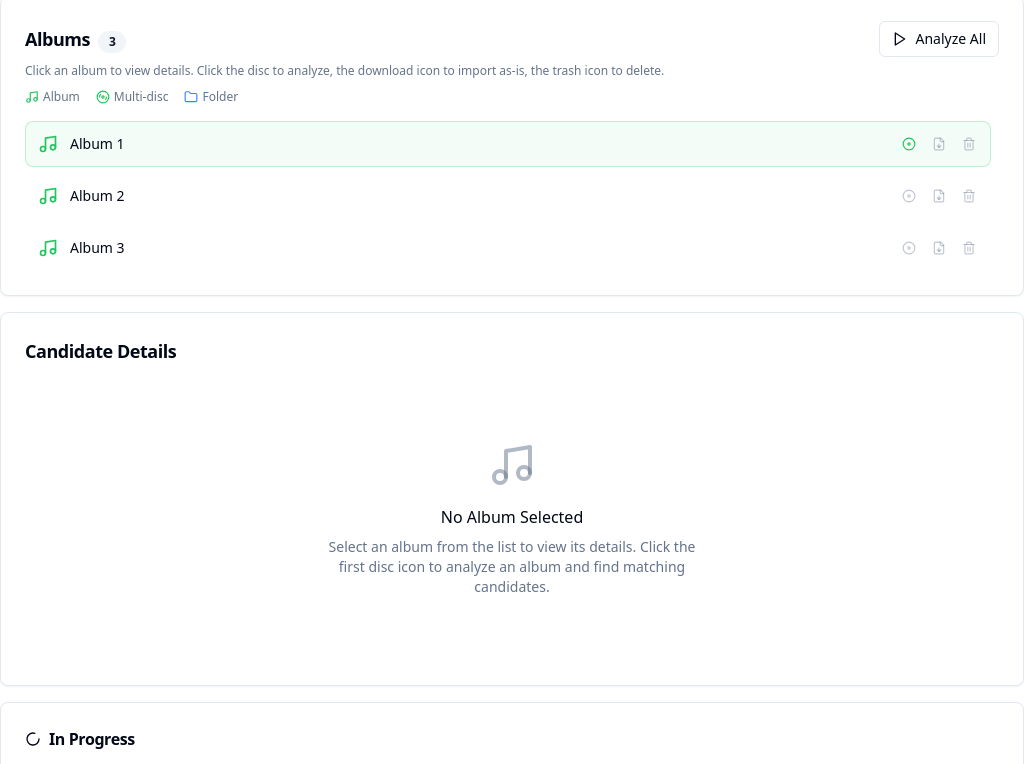
Test: BeetsImportPanel › Album Deletion › should delete the incoming album from the duplicate dialog
Expected: the text "Album 1" is shown, [70,134,125,153]
# Select Album 1 → auto-analysis loads candidates and the Import button.
Click the button "Album 1" at (97, 144), box [25,121,991,167]
(page scrolled)
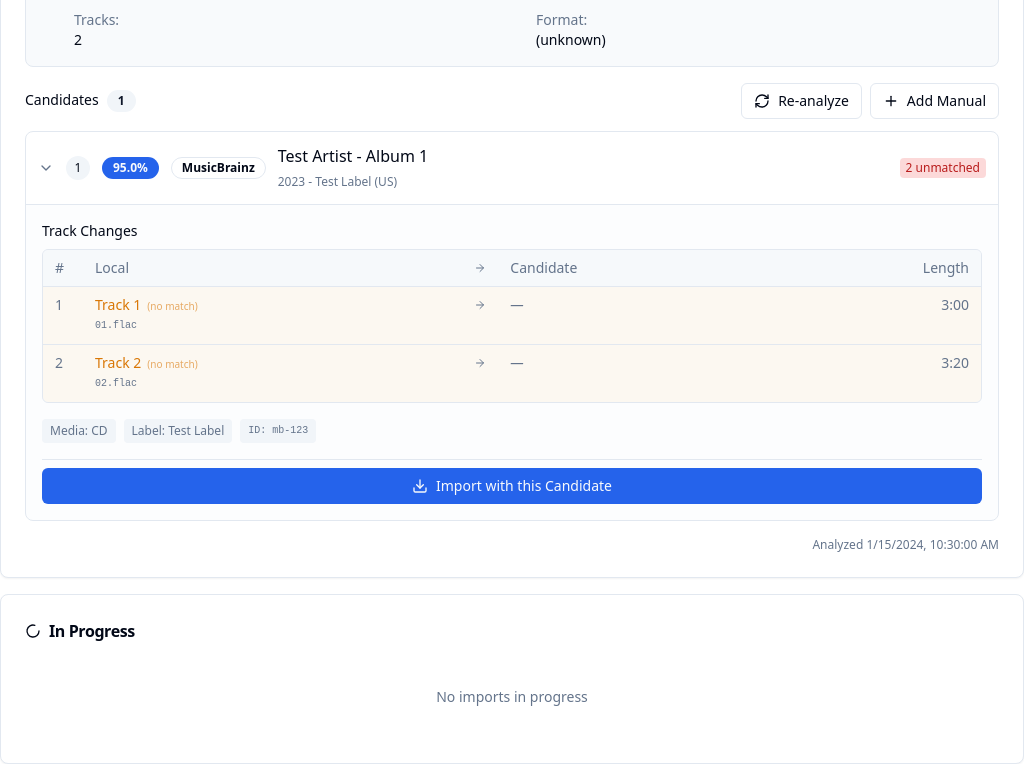
Click the button with test id "import-button" at (512, 486), box [42,468,982,504]
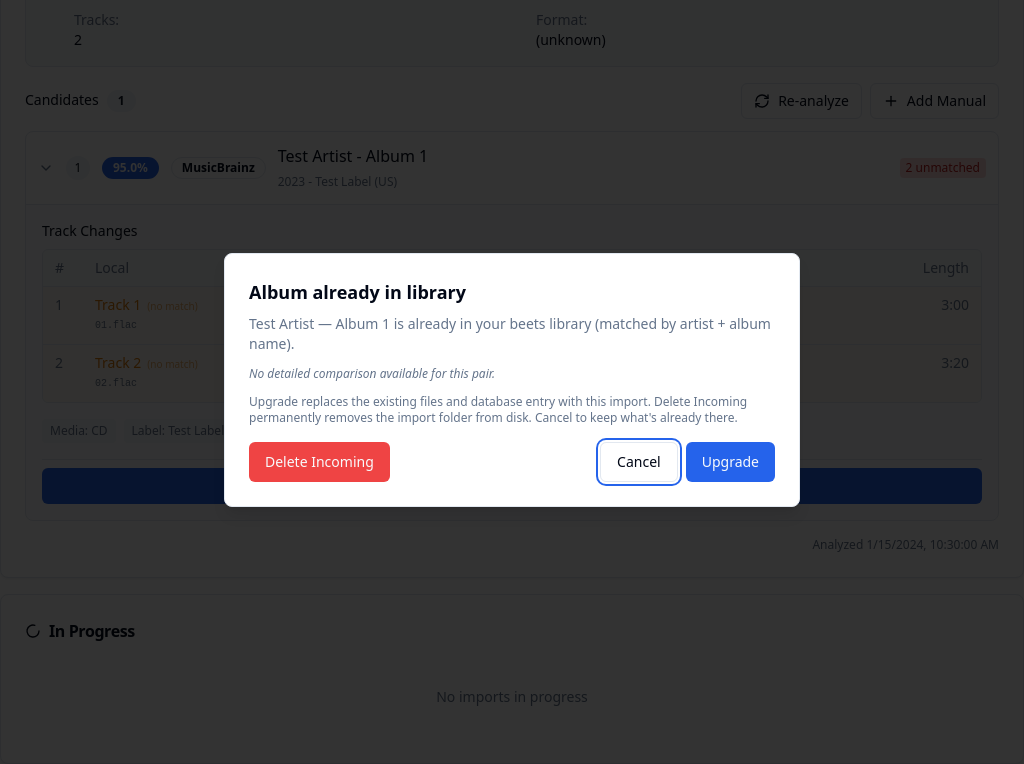
Click the button with test id "upgrade-delete-incoming-button" at (319, 462), box [249,442,390,482]
(page scrolled)
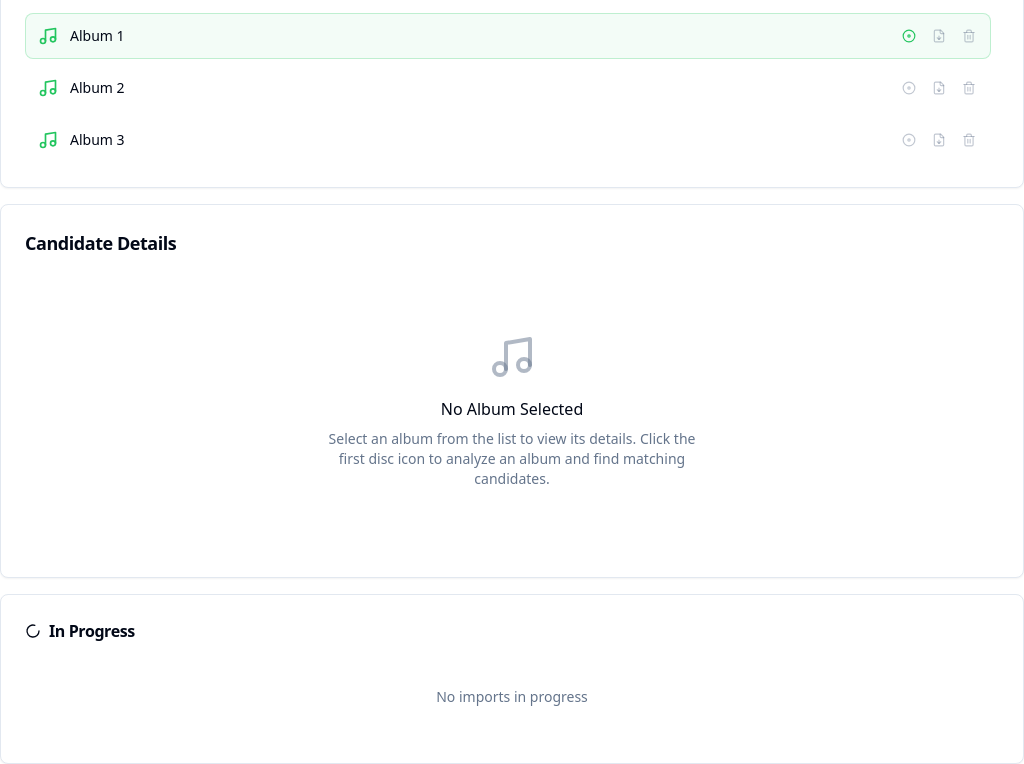
Result: the button with test id "upgrade-delete-incoming-button" is gone
